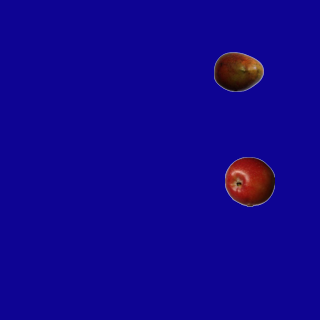Apple Braeburn: (224, 156, 274, 206)
Mango Red: (213, 46, 263, 96)
